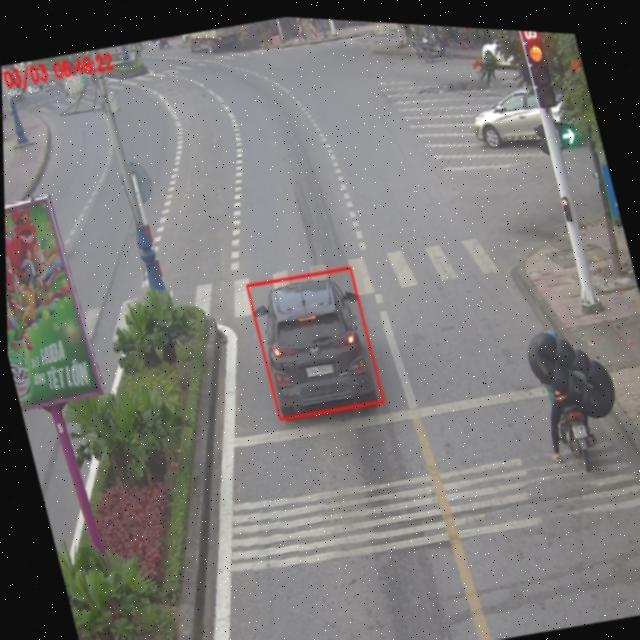Red: (517, 24, 560, 105)
